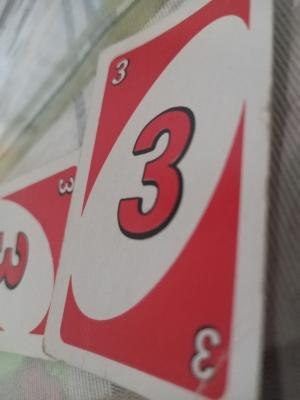num_3: (188, 314, 224, 388), (0, 216, 34, 293), (53, 175, 81, 203)
